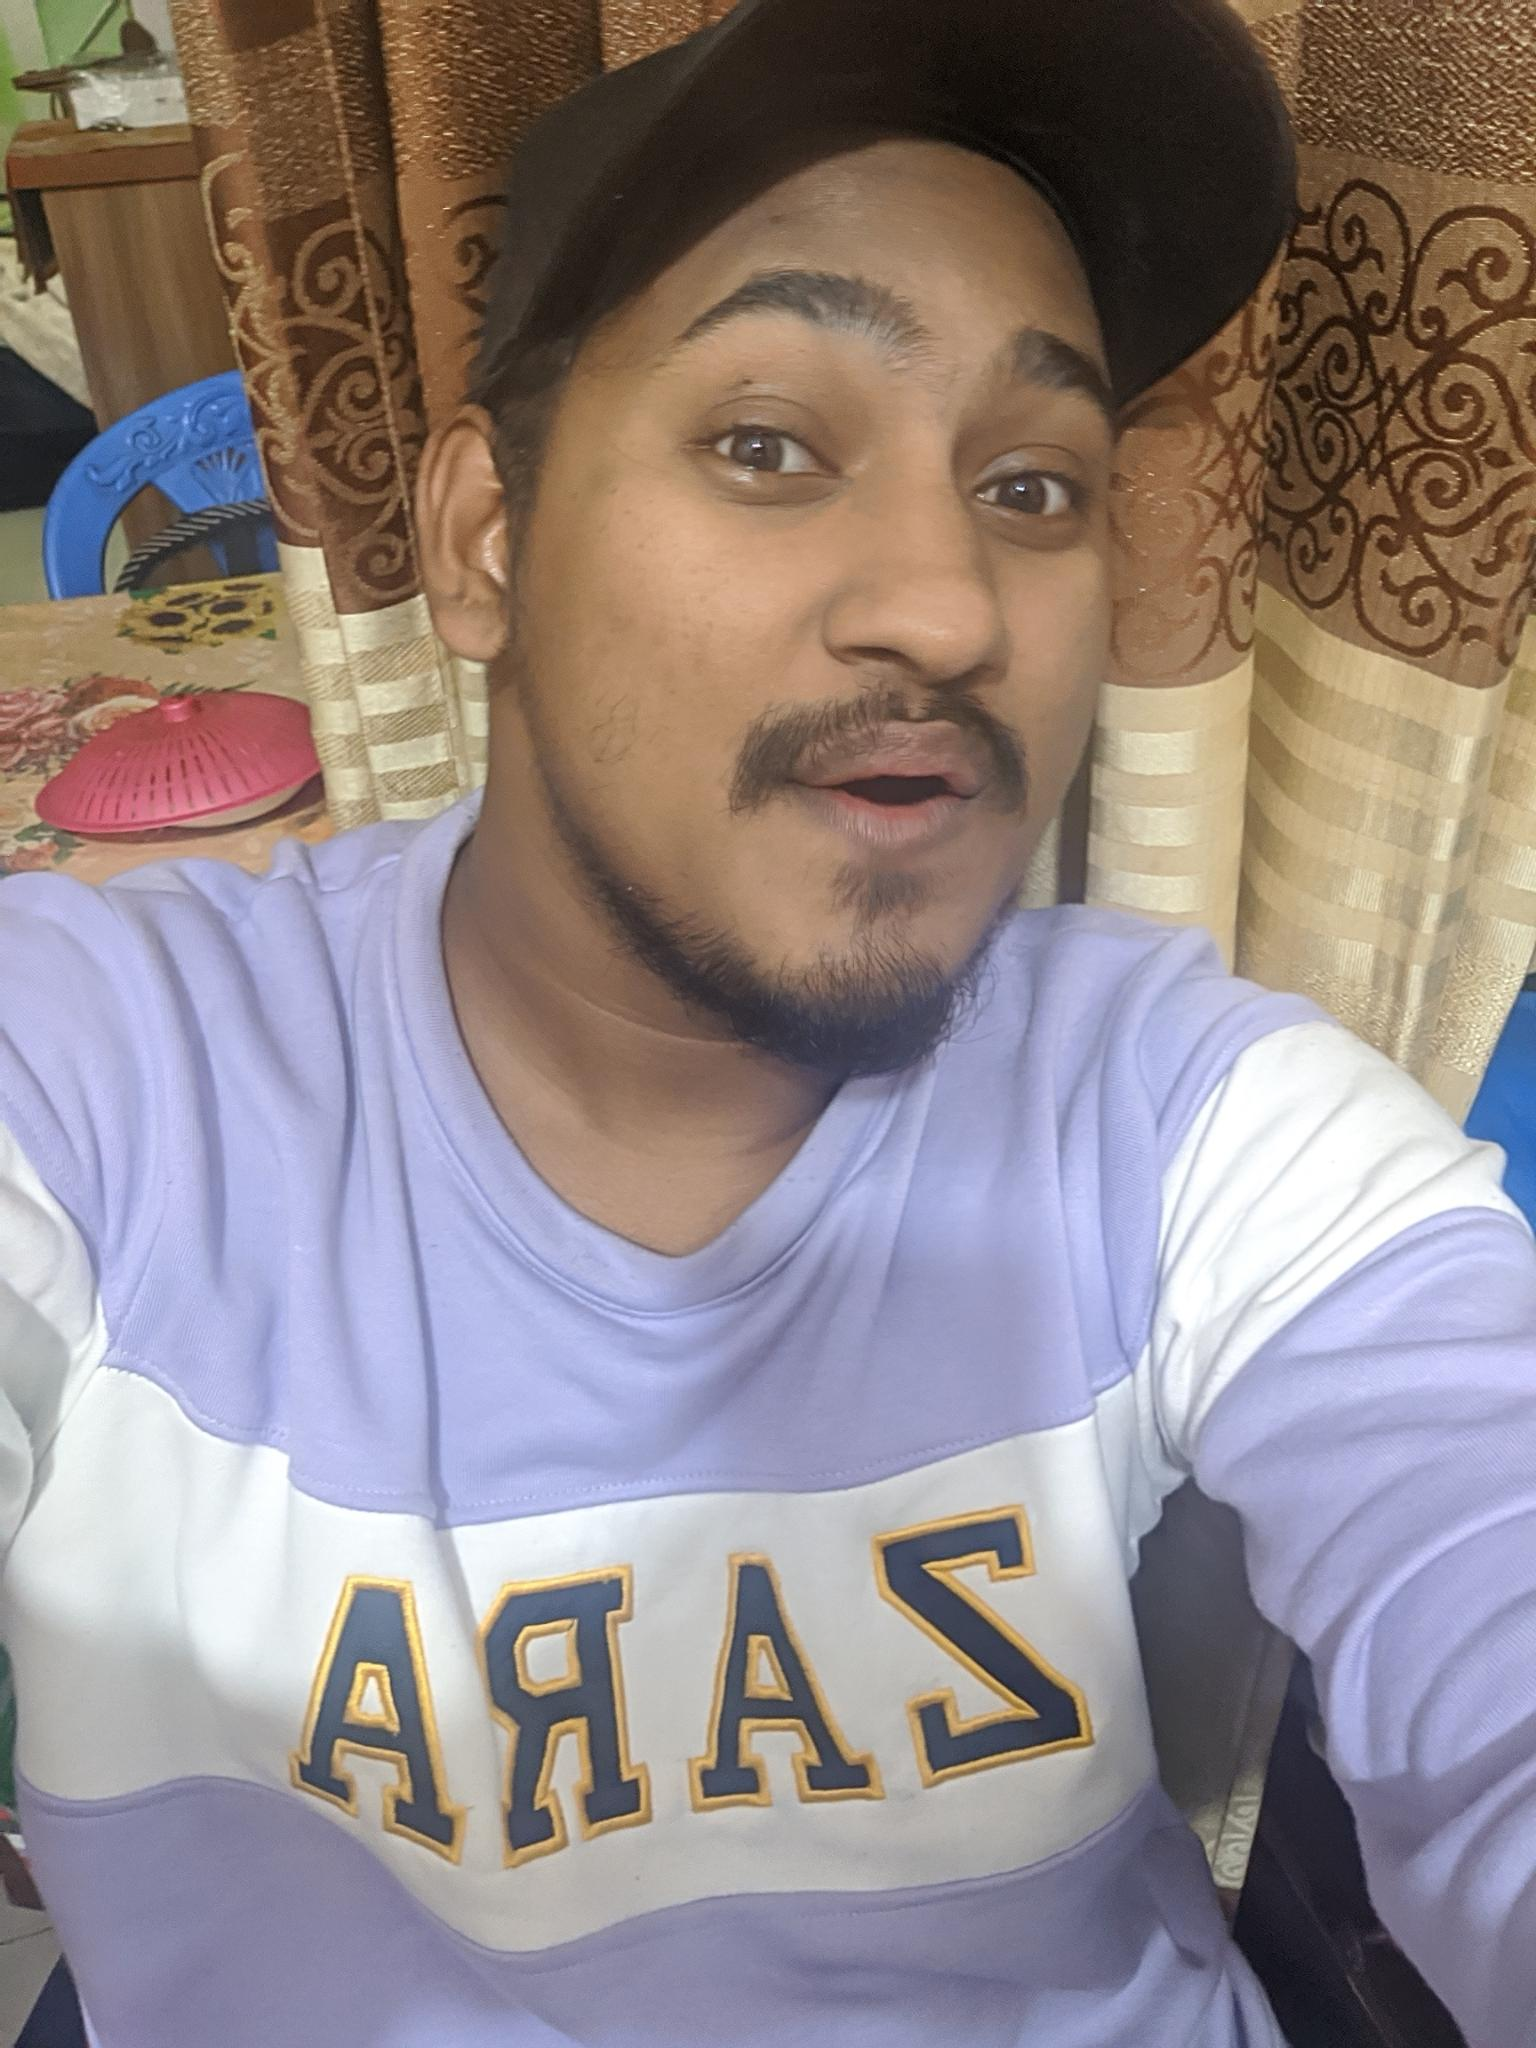Surprise: (574, 219, 1155, 1027)
